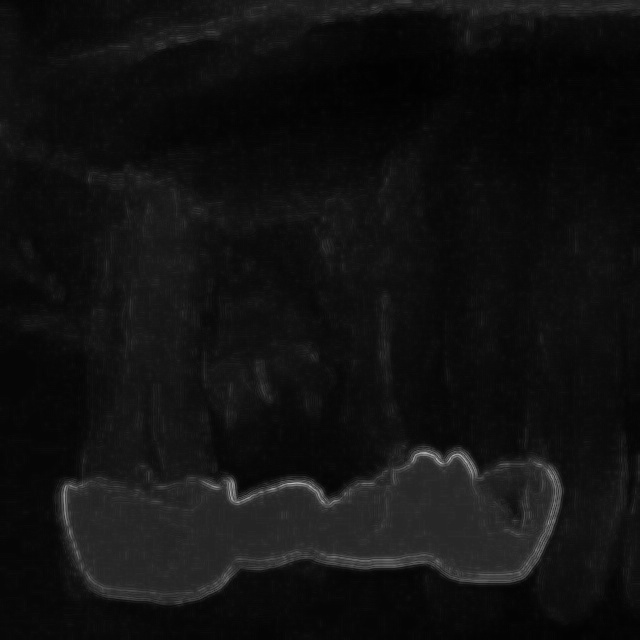Class 2- incomplete endodontic treatment: (204, 246, 338, 592), (342, 274, 448, 592)
cavity: (52, 224, 228, 623), (434, 239, 560, 609)
